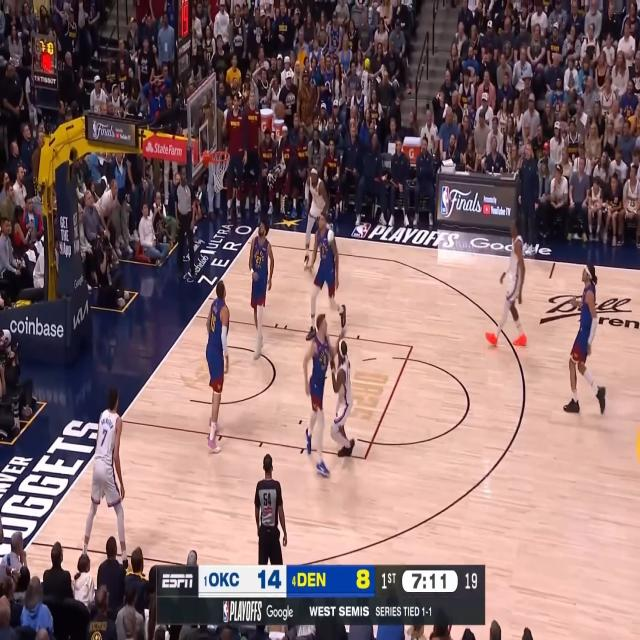ball: (275, 100, 285, 118)
number: (210, 311, 217, 333), (100, 428, 108, 446), (256, 255, 262, 264)
player: (80, 386, 133, 574), (303, 312, 346, 479), (562, 263, 606, 415), (483, 217, 528, 347), (304, 212, 346, 342), (204, 278, 230, 452), (248, 218, 274, 360), (329, 328, 356, 459), (302, 164, 328, 271)
referee: (255, 454, 288, 566), (174, 165, 197, 278)
rim: (209, 149, 230, 165)
